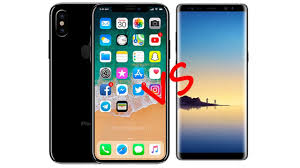iphone: (87, 3, 175, 165)
iphone10: (85, 4, 173, 166)
